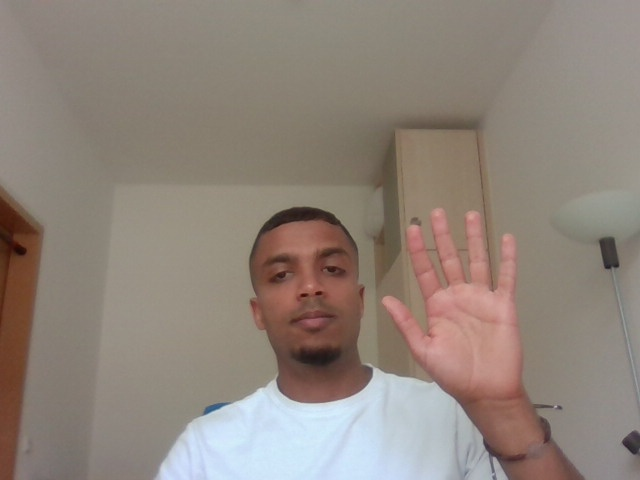never: (375, 204, 545, 410)
